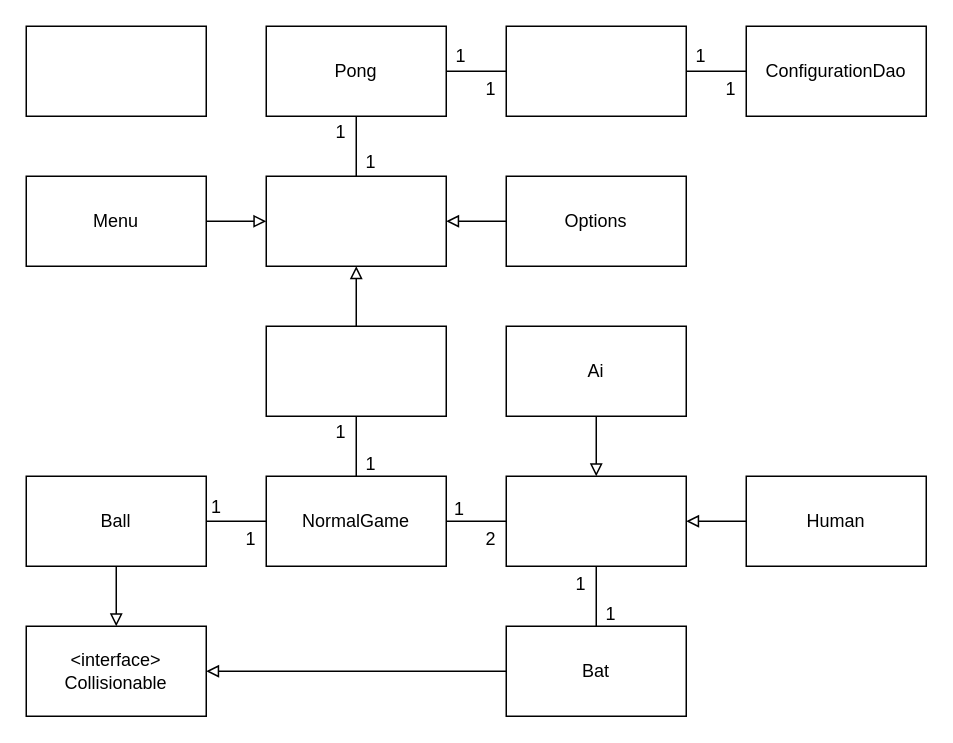
The diagram is 953 pixels wide and 743 high, and some of its shapes have lost their labels. The centre of each missing label's shape, as x and y in pixels:
<interface> Screen: point 355,220
ComponentCreator: point 115,70
Configurations: point 595,70
NormalGameScreen: point 355,370
Player: point 595,520
